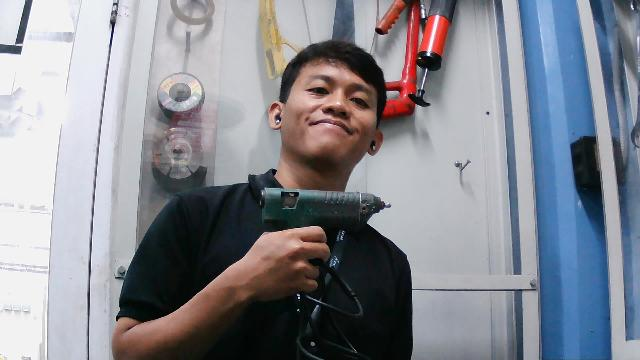gun_lem: (248, 183, 394, 271)
